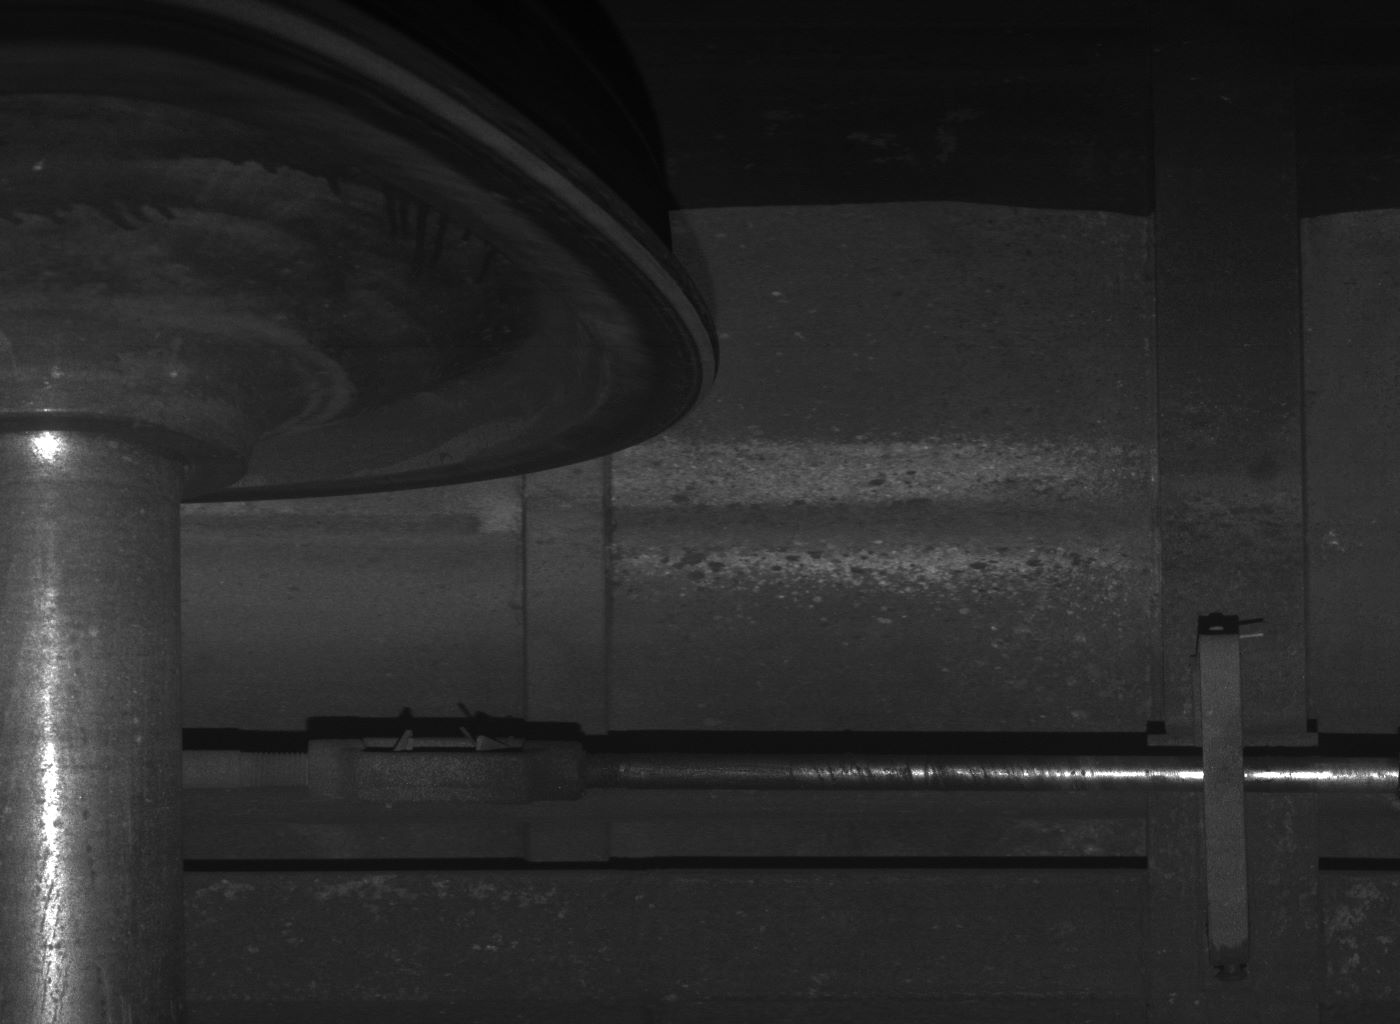normal: (1182, 625, 1262, 982)
